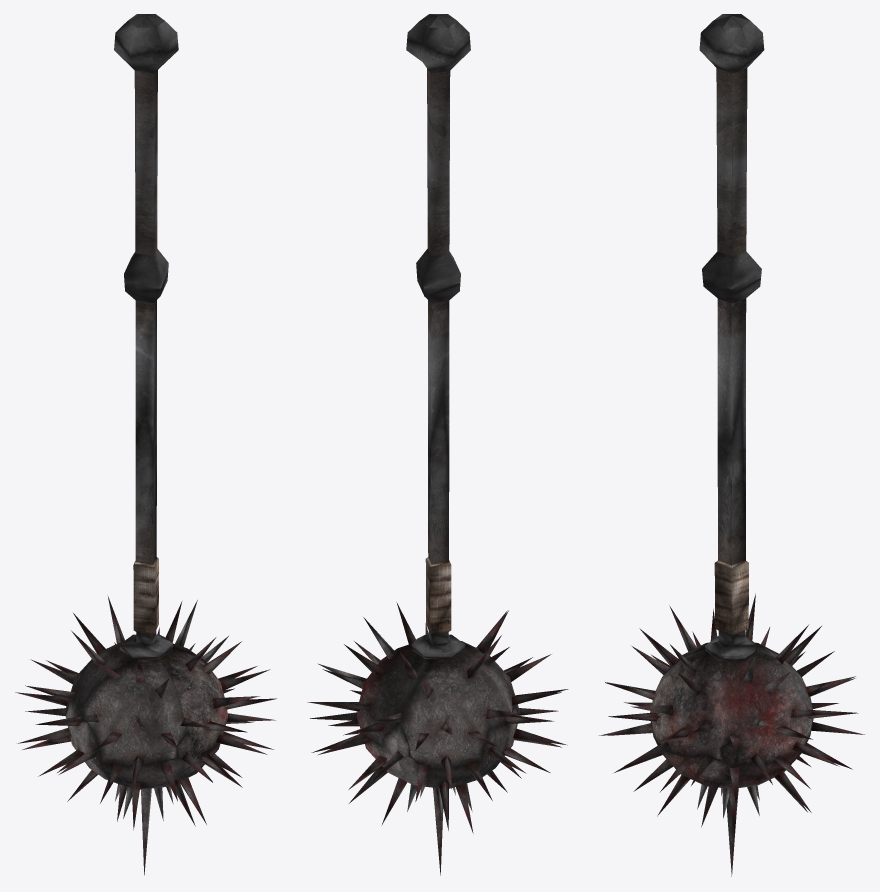
3 views of the same model, side by side, from view 1: azimuth 30°, elevation 25°; view 2: azimuth 150°, elevation 25°; view 3: azimuth 270°, elevation 25° (orthographic).
Parts seen in each view (by area): view 1: mesh0, mesh1; view 2: mesh0, mesh1; view 3: mesh0, mesh1.
Boxes of the visible parts, bbox=[...] form: mesh0: bbox=[15, 14, 276, 875]; mesh1: bbox=[133, 559, 158, 634]; mesh0: bbox=[307, 14, 568, 875]; mesh1: bbox=[363, 557, 451, 762]; mesh0: bbox=[599, 14, 864, 876]; mesh1: bbox=[714, 560, 810, 761].
Bounding box in the file's own units: 25.85 × 92.82 × 26.09.
